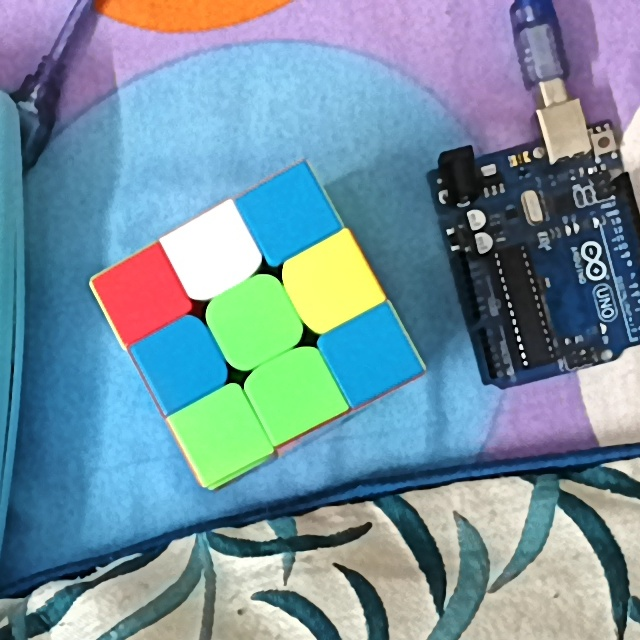tile: (263, 364, 326, 422), (223, 293, 284, 350), (299, 256, 359, 311), (182, 227, 241, 282), (152, 336, 212, 390), (192, 404, 246, 463), (343, 328, 397, 384), (112, 269, 168, 322), (257, 189, 313, 240)
